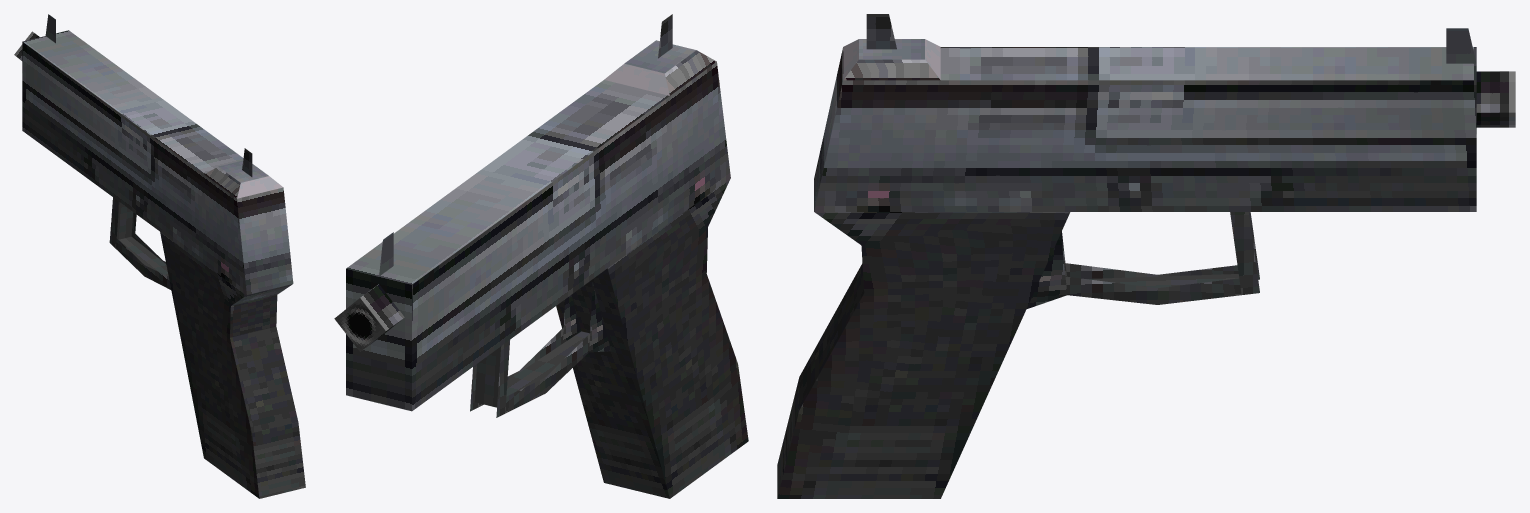
Rendered from recovered_gun_a_mark23_81b8b2e4.glb.
The picture shows the model from 3 angles, left to right: view 1: azimuth 30°, elevation 25°; view 2: azimuth 150°, elevation 25°; view 3: azimuth 270°, elevation 25°; orthographic projection. The views are drawn at different scales.
Visible parts, largest first — view 1: Gun_36a5e04d92e0; view 2: Gun_36a5e04d92e0, Gun_379f7b5fa02f; view 3: Gun_36a5e04d92e0.
Part boxes in pixels (box(x1,y1,x2,y2)): Gun_36a5e04d92e0: box(14, 14, 305, 498); Gun_36a5e04d92e0: box(346, 14, 748, 498); Gun_379f7b5fa02f: box(334, 298, 385, 351); Gun_36a5e04d92e0: box(777, 14, 1515, 498).
Bounding box in the file's own units: 0.0288 × 0.1881 × 0.2689.
Materials: 2 (2 with a texture image).
